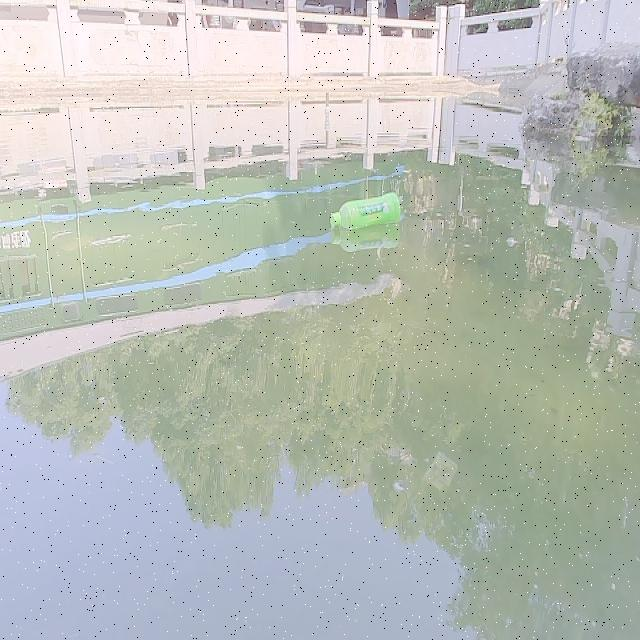bottle: (328, 190, 401, 230)
